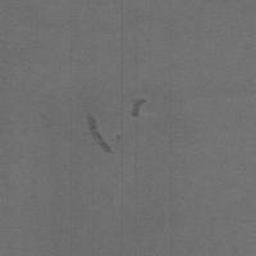Inclusion: (88, 116, 112, 153), (131, 99, 146, 117)
